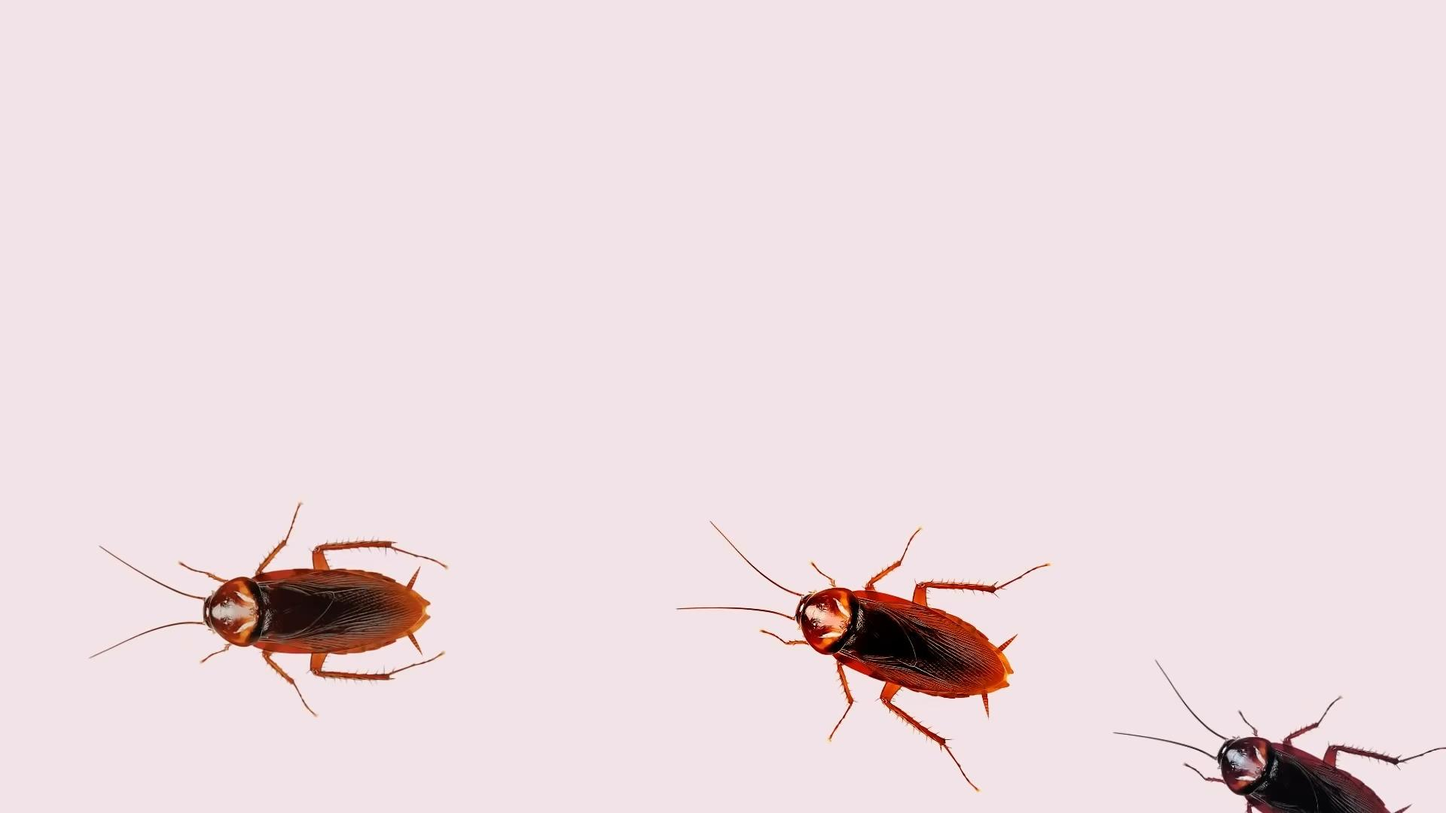cockroach: (680, 514, 1052, 788), (79, 516, 455, 705), (1107, 647, 1446, 813)
